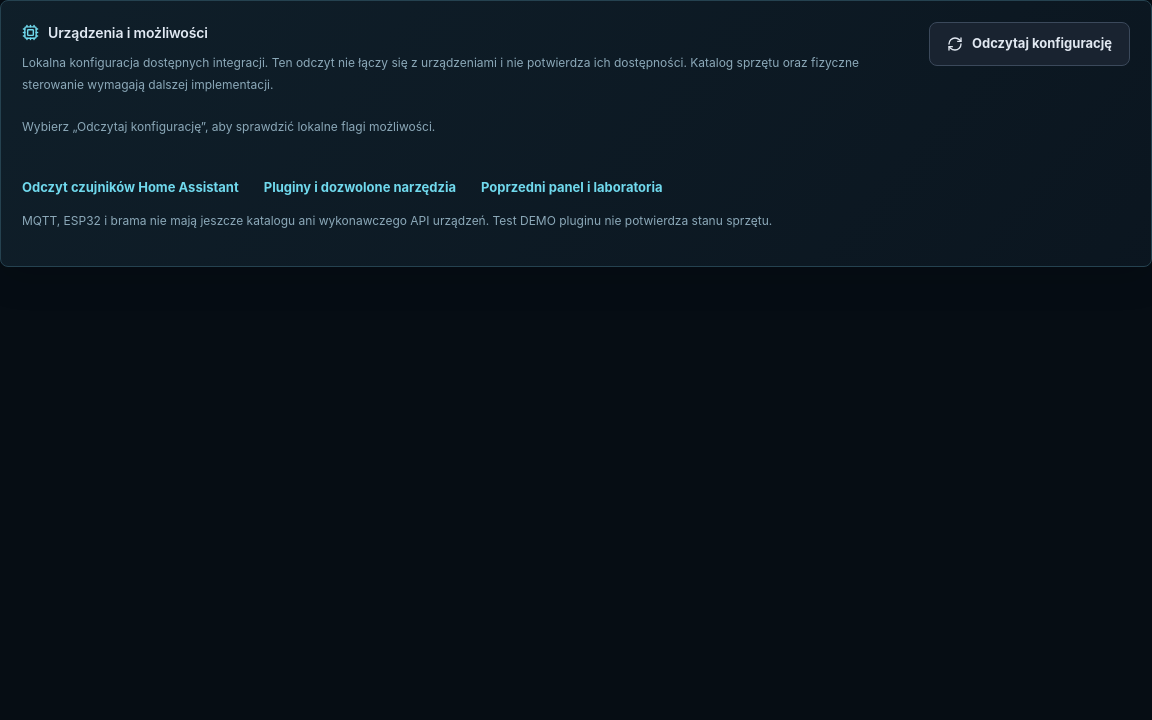
Test: Device capabilities reflect local metadata only › clears configuration on session expiry without printing response diagnostics
The width and height of the screenshot is (1152, 720).
Click the button "Odczytaj konfigurację" at {"x": 1029, "y": 44}, box [929,22,1130,66]
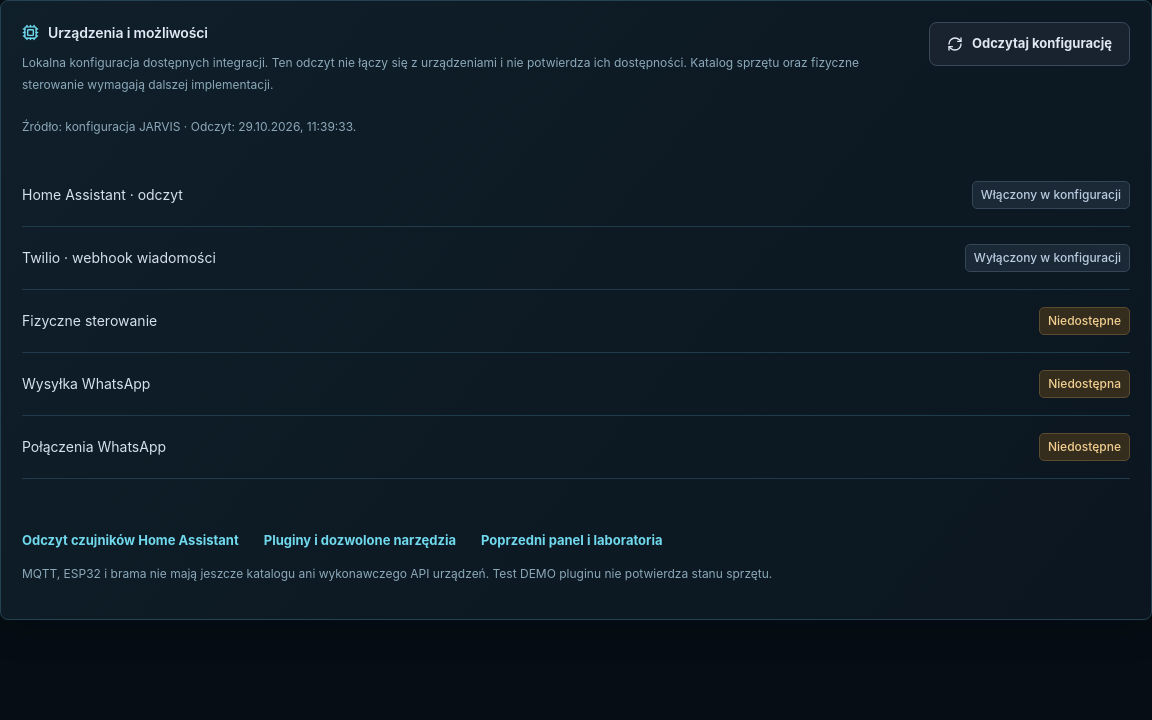
Now the text "Włączony w konfiguracji" is shown, box [972,181,1130,209]
Click the button "Odczytaj konfigurację" at {"x": 1029, "y": 44}, box [929,22,1130,66]
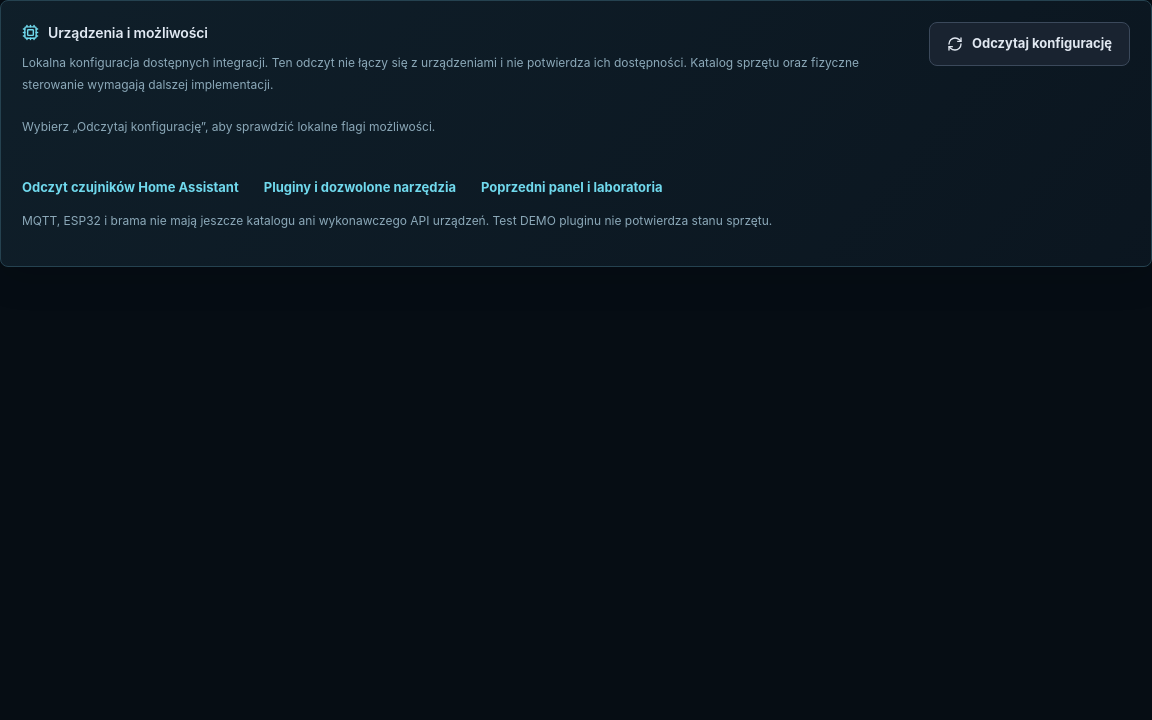
Now the text "Włączony w konfiguracji" is gone
